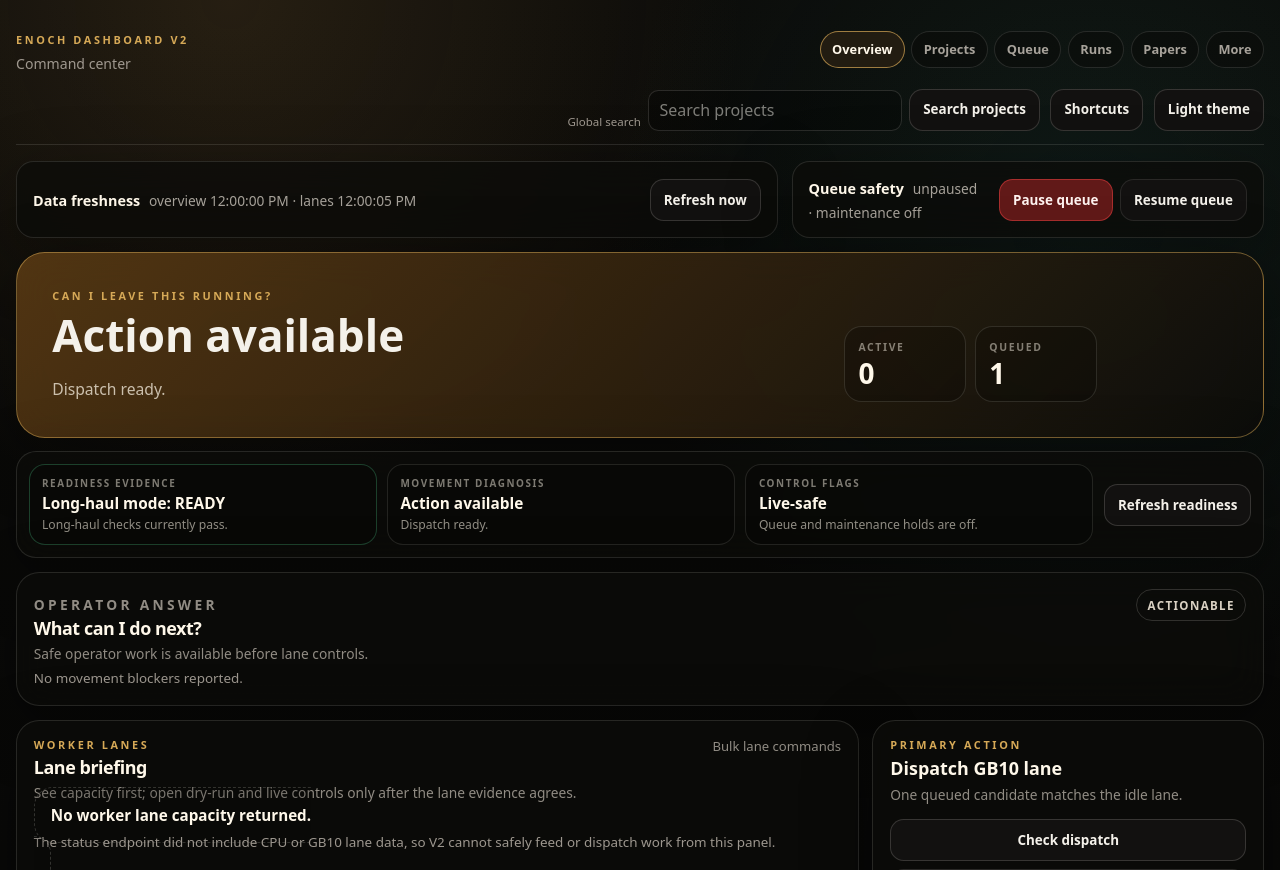
keeps overview command result diagnostic JSON inside collapsed details
Expected: the text "Can I leave this running?" is shown, [52,288,273,303]
Expected: the text "Long-haul mode: READY" is shown, [42,492,225,514]
Click the button "Check dispatch". click: (1068, 840)
box: [890,819,1246,861]
(page scrolled)
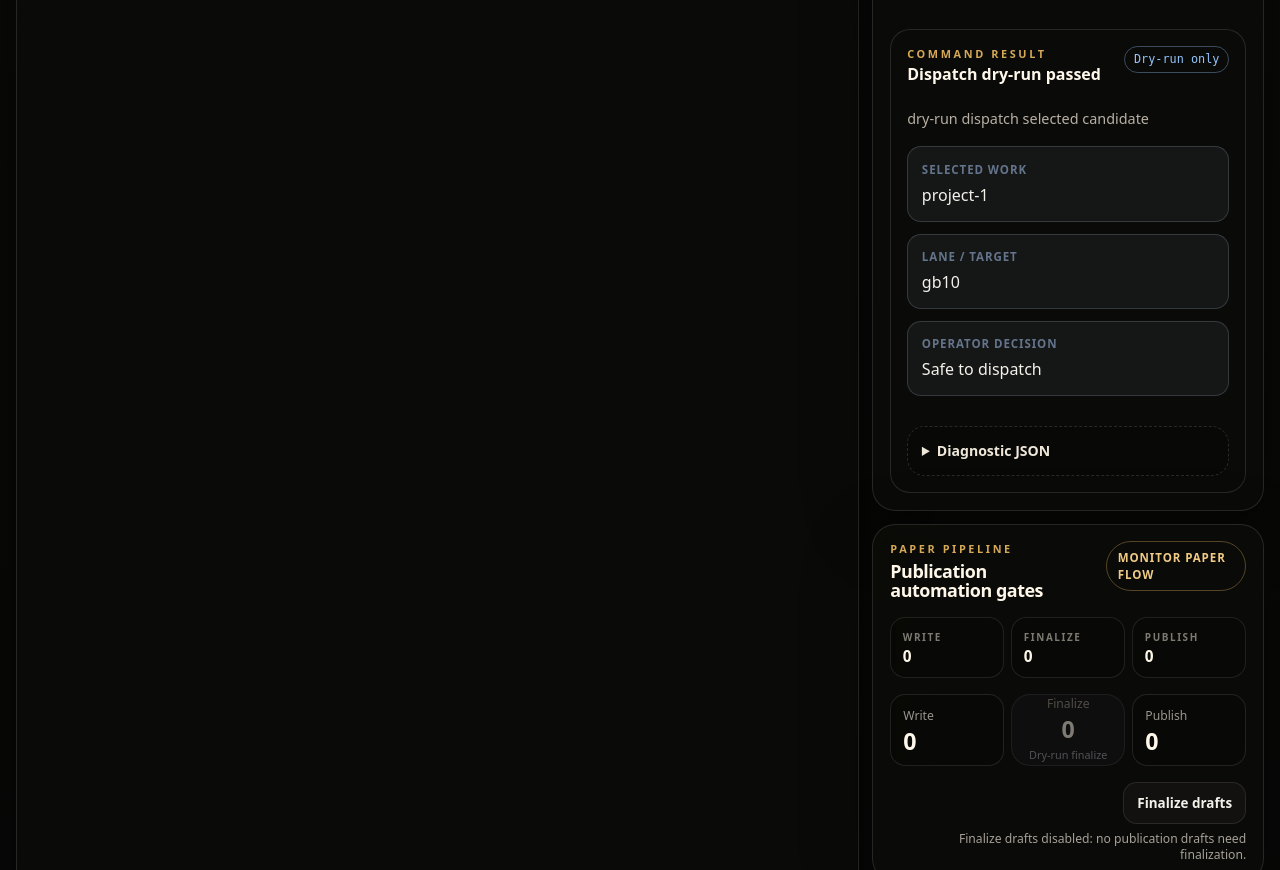
Now the text "dry-run dispatch selected candidate" is shown, box [907,109,1149,128]
Now the element with class "json-block" is shown, box [907,426,1229,476]
